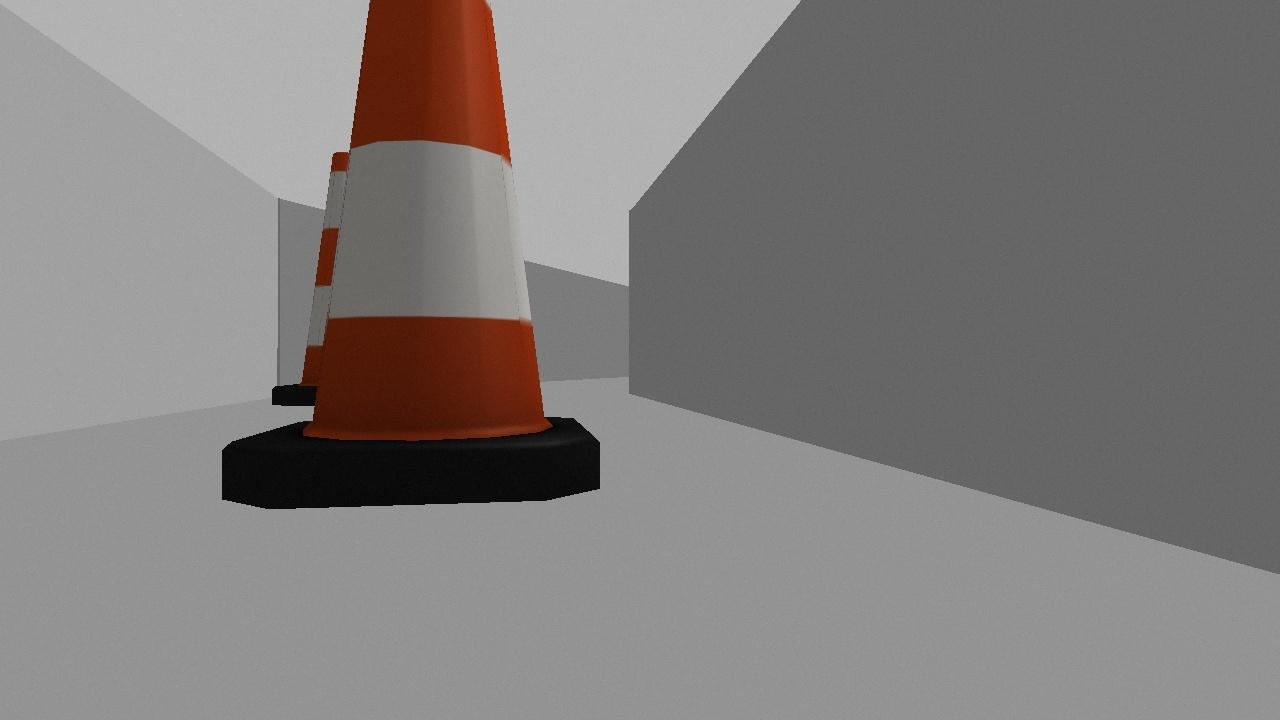cone_barrel: (200, 0, 617, 517), (265, 138, 394, 413)
